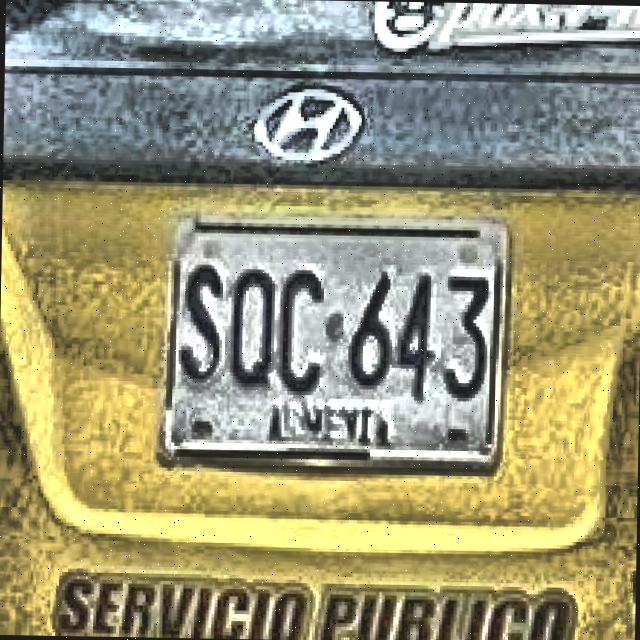plate: (167, 231, 503, 456)
